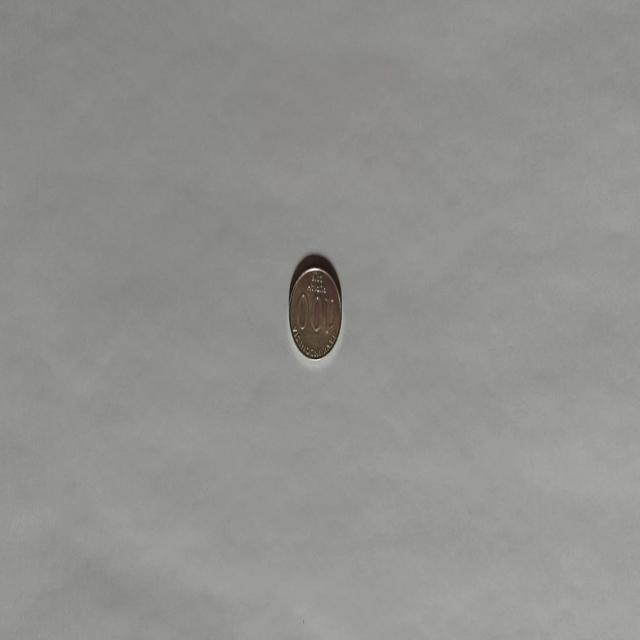seratus rupiah: (288, 262, 342, 360)
